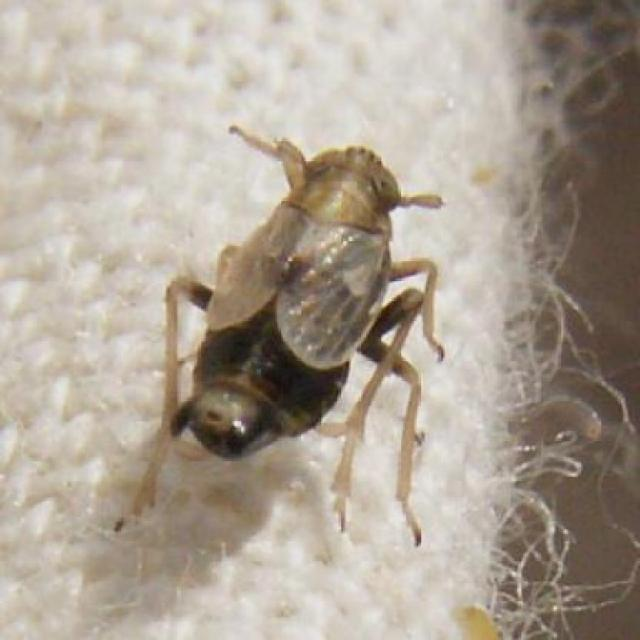brown-planthopper: (182, 112, 426, 483)
